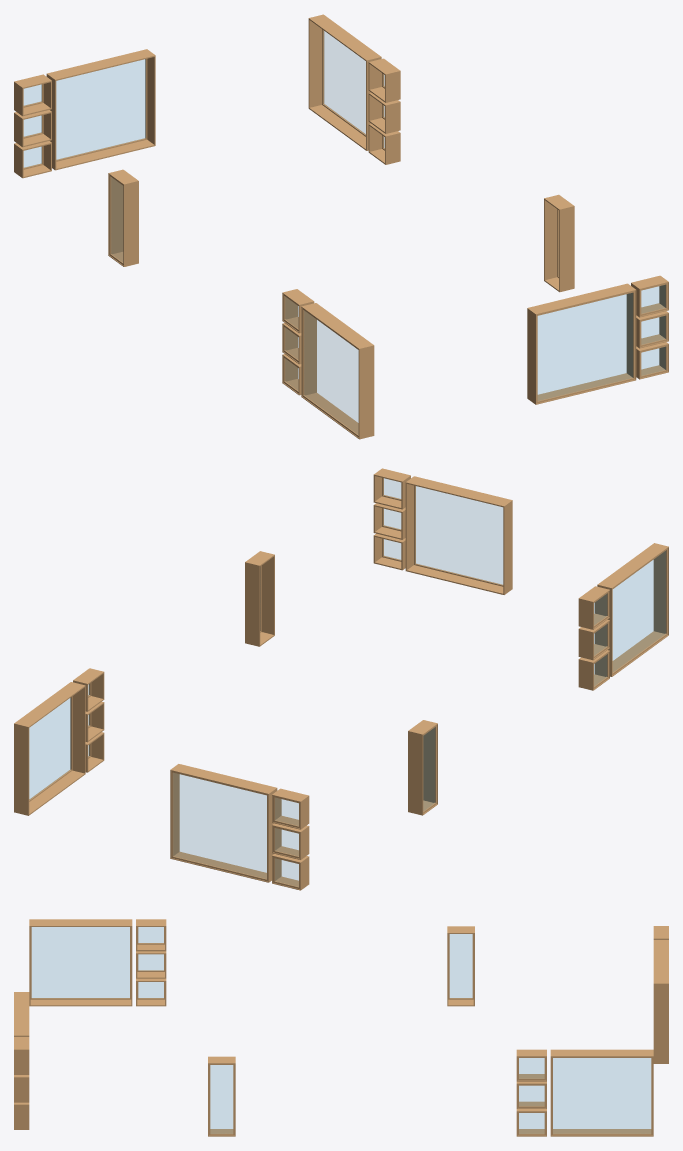
The model's file is Duplex_Level_2_IfcWindow.dae.
3 renders of one model, top to bottom at view 1: azimuth 30°, elevation 25°; view 2: azimuth 150°, elevation 25°; view 3: azimuth 270°, elevation 25°, orthographic. The views are drawn at different scales.
Parts seen in each view (by area): view 1: 1hOSvn6df7F8_7GcBWlS_W, 1hOSvn6df7F8_7GcBWlSXO, 1l0GAJtRTFv8$zmKJOH4$e, 1l0GAJtRTFv8$zmKJOH4pU, 1l0GAJtRTFv8$zmKJOH4aS, 1l0GAJtRTFv8$zmKJOH4ZZ, 1hOSvn6df7F8_7GcBWlSnC, 1hOSvn6df7F8_7GcBWlS4Q, 1l0GAJtRTFv8$zmKJOH4kJ, 1hOSvn6df7F8_7GcBWlSp1, 1hOSvn6df7F8_7GcBWlSga, 1hOSvn6df7F8_7GcBWlS1M (+6 smaller); view 2: 1hOSvn6df7F8_7GcBWlS_W, 1hOSvn6df7F8_7GcBWlSXO, 1l0GAJtRTFv8$zmKJOH4pU, 1l0GAJtRTFv8$zmKJOH4$e, 1l0GAJtRTFv8$zmKJOH4ZZ, 1l0GAJtRTFv8$zmKJOH4aS, 1hOSvn6df7F8_7GcBWlSnC, 1hOSvn6df7F8_7GcBWlS4Q, 1hOSvn6df7F8_7GcBWlSp1, 1hOSvn6df7F8_7GcBWlSga, 1l0GAJtRTFv8$zmKJOH4u1, 1hOSvn6df7F8_7GcBWlS2V (+5 smaller); view 3: 1l0GAJtRTFv8$zmKJOH4pU, 1l0GAJtRTFv8$zmKJOH4$e, 1l0GAJtRTFv8$zmKJOH4ZZ, 1l0GAJtRTFv8$zmKJOH4aS, 1hOSvn6df7F8_7GcBWlSXO, 1l0GAJtRTFv8$zmKJOH4kJ, 1l0GAJtRTFv8$zmKJOH4u1, 1l0GAJtRTFv8$zmKJOH4qs, 1l0GAJtRTFv8$zmKJOH4oq, 1l0GAJtRTFv8$zmKJOH4hv, 1l0GAJtRTFv8$zmKJOH4gQ, 1hOSvn6df7F8_7GcBWlS_W (+3 smaller).
Part boxes in pixels (x1,y1,x2,y2): 1hOSvn6df7F8_7GcBWlS_W: (527,283,636,404); 1hOSvn6df7F8_7GcBWlSXO: (46,49,155,170); 1l0GAJtRTFv8$zmKJOH4$e: (301,303,374,439); 1l0GAJtRTFv8$zmKJOH4pU: (308,14,381,150); 1l0GAJtRTFv8$zmKJOH4aS: (544,194,574,292); 1l0GAJtRTFv8$zmKJOH4ZZ: (108,169,138,266); 1hOSvn6df7F8_7GcBWlSnC: (14,74,51,116); 1hOSvn6df7F8_7GcBWlS4Q: (631,275,668,317); 1l0GAJtRTFv8$zmKJOH4kJ: (368,58,400,102); 1hOSvn6df7F8_7GcBWlSp1: (14,110,51,147); 1hOSvn6df7F8_7GcBWlSga: (14,141,51,178); 1hOSvn6df7F8_7GcBWlS1M: (636,311,668,348); 1hOSvn6df7F8_7GcBWlS_W: (405,476,512,594); 1hOSvn6df7F8_7GcBWlSXO: (170,764,277,882); 1l0GAJtRTFv8$zmKJOH4pU: (14,682,85,815); 1l0GAJtRTFv8$zmKJOH4$e: (597,543,668,676); 1l0GAJtRTFv8$zmKJOH4ZZ: (408,720,437,815); 1l0GAJtRTFv8$zmKJOH4aS: (245,551,274,646); 1hOSvn6df7F8_7GcBWlSnC: (272,788,309,829); 1hOSvn6df7F8_7GcBWlS4Q: (373,468,410,509); 1hOSvn6df7F8_7GcBWlSp1: (272,823,309,859); 1hOSvn6df7F8_7GcBWlSga: (272,854,309,890); 1l0GAJtRTFv8$zmKJOH4u1: (578,586,609,629); 1hOSvn6df7F8_7GcBWlS2V: (373,533,405,570); 1l0GAJtRTFv8$zmKJOH4pU: (550,1049,653,1136); 1l0GAJtRTFv8$zmKJOH4$e: (29,919,132,1006); 1l0GAJtRTFv8$zmKJOH4ZZ: (447,926,474,1006); 1l0GAJtRTFv8$zmKJOH4aS: (208,1056,235,1136); 1hOSvn6df7F8_7GcBWlSXO: (653,940,668,1063); 1l0GAJtRTFv8$zmKJOH4kJ: (516,1049,546,1081); 1l0GAJtRTFv8$zmKJOH4u1: (136,919,166,951); 1l0GAJtRTFv8$zmKJOH4qs: (136,978,166,1006); 1l0GAJtRTFv8$zmKJOH4oq: (136,951,166,978); 1l0GAJtRTFv8$zmKJOH4hv: (516,1109,546,1136); 1l0GAJtRTFv8$zmKJOH4gQ: (516,1081,546,1108); 1hOSvn6df7F8_7GcBWlS_W: (14,992,29,1036).
Size of the model in its own units: 8.8 by 17.8 by 2.41.
